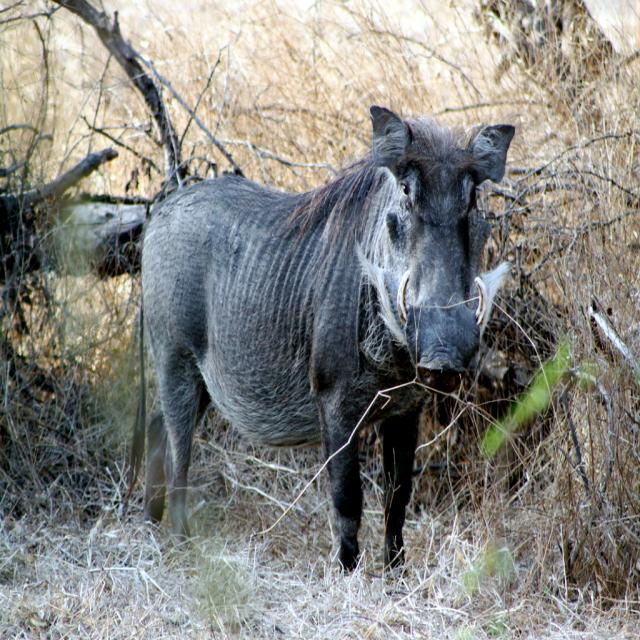Pig: (118, 104, 516, 577)
